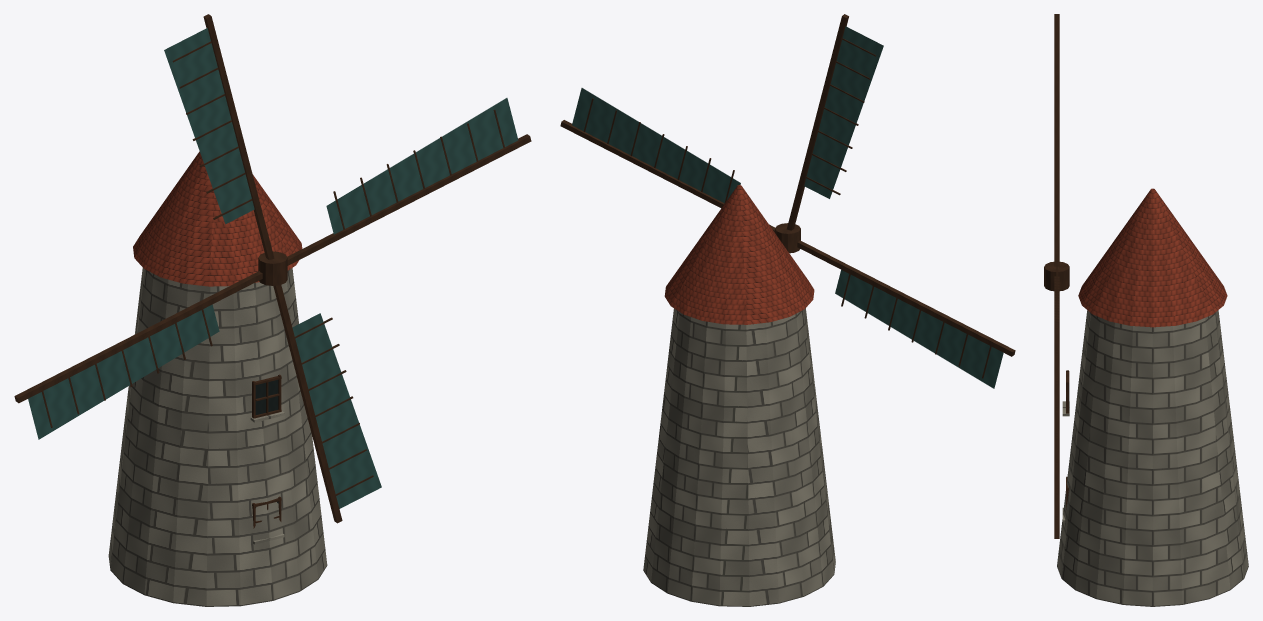
The model's file is SG_Windmill_LOD1.fbx.
3 views of the same model, side by side, from view 1: azimuth 30°, elevation 25°; view 2: azimuth 150°, elevation 25°; view 3: azimuth 270°, elevation 25° (orthographic). The views are drawn at different scales.
Visible parts, largest first — view 1: SG_Windmill_Detail1; view 2: SG_Windmill_Detail1; view 3: SG_Windmill_Detail1.
Boxes of the visible parts, left/top/right/bottom form: SG_Windmill_Detail1: left=14, top=14, right=531, bottom=606; SG_Windmill_Detail1: left=560, top=14, right=1015, bottom=606; SG_Windmill_Detail1: left=1044, top=14, right=1248, bottom=606.
Bounding box in the file's own units: 48.57 × 54.28 × 19.2.
